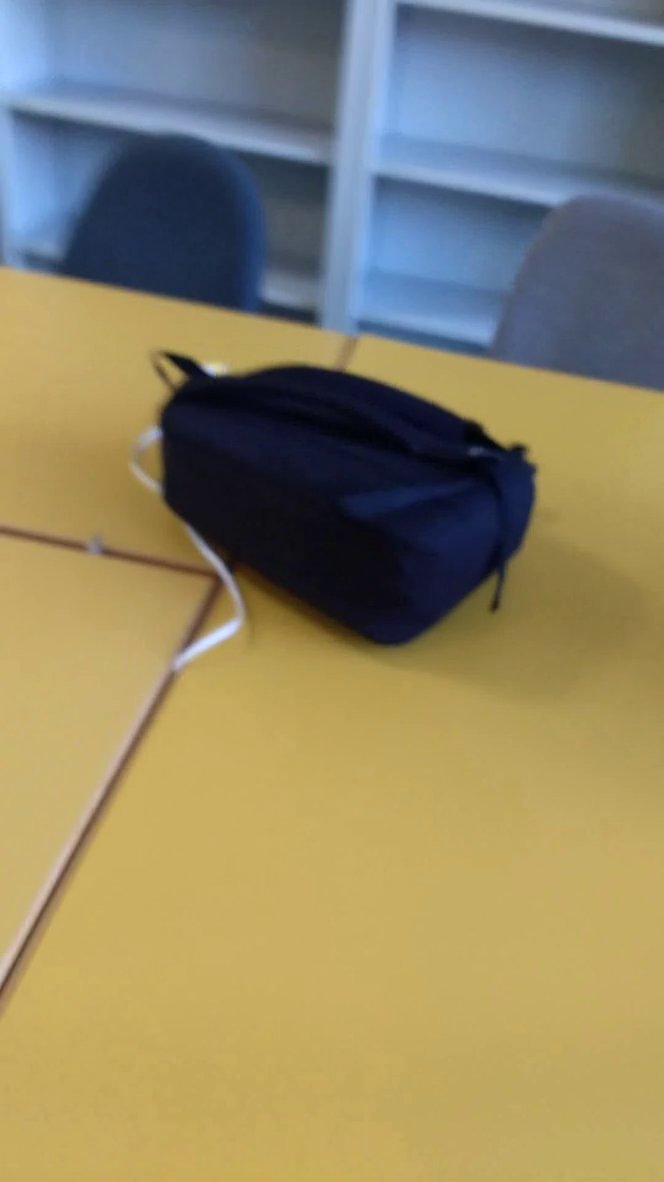bag: (98, 334, 553, 663)
chair: (46, 116, 298, 361), (480, 172, 664, 424)
